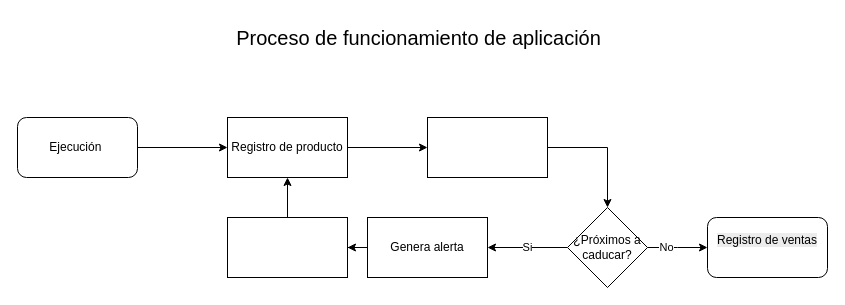
This 845x305 diagram has some shape labels left out. Each missing label, with the centre of its shape:
"Modificación de precios" belongs at point 287,247.
"Monitoreo de fechas" belongs at point 487,147.
